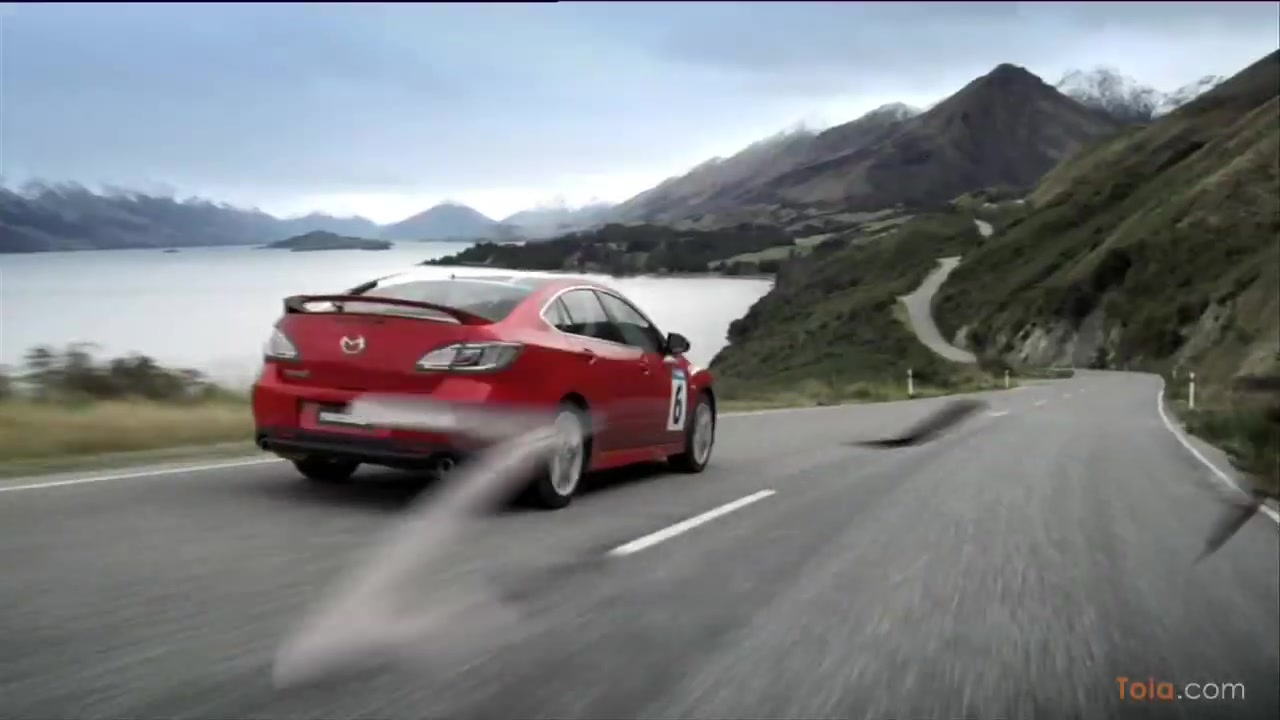car: (249, 257, 718, 505)
